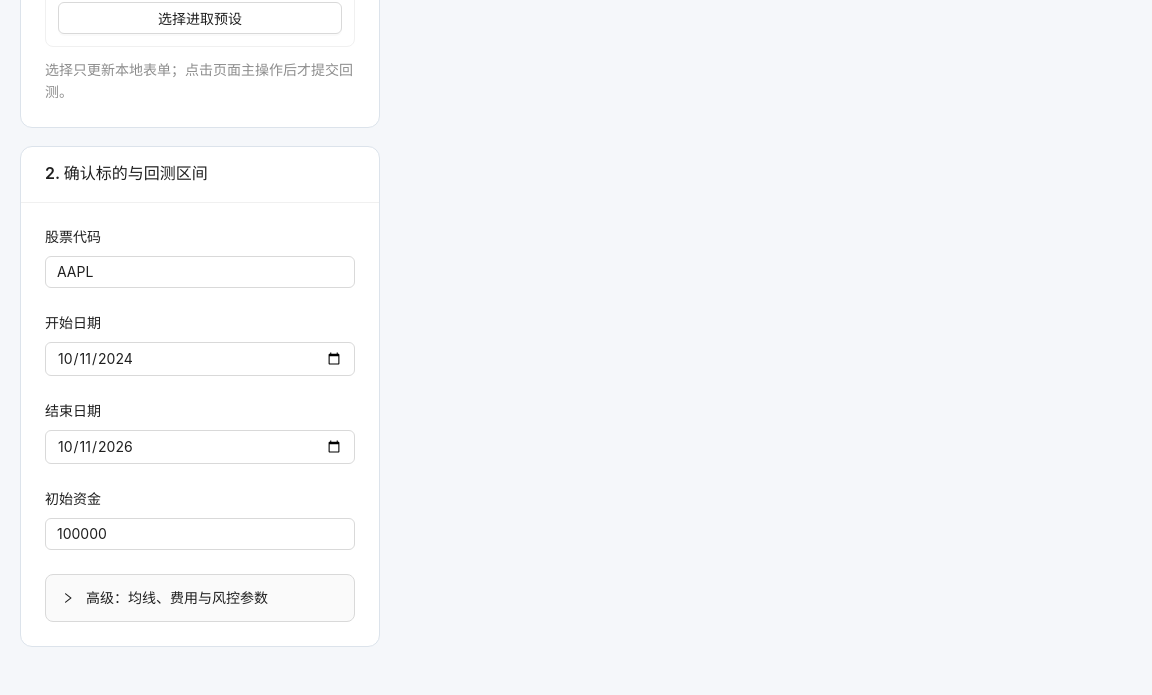
Test: StrategyLab › offers a ranked market reference and keeps actual cost and drawdown controls in advanced settings
(page scrolled)
Click the button "高级：均线、费用与风控参数" at (165, 597), box [62, 589, 268, 606]
(page scrolled)
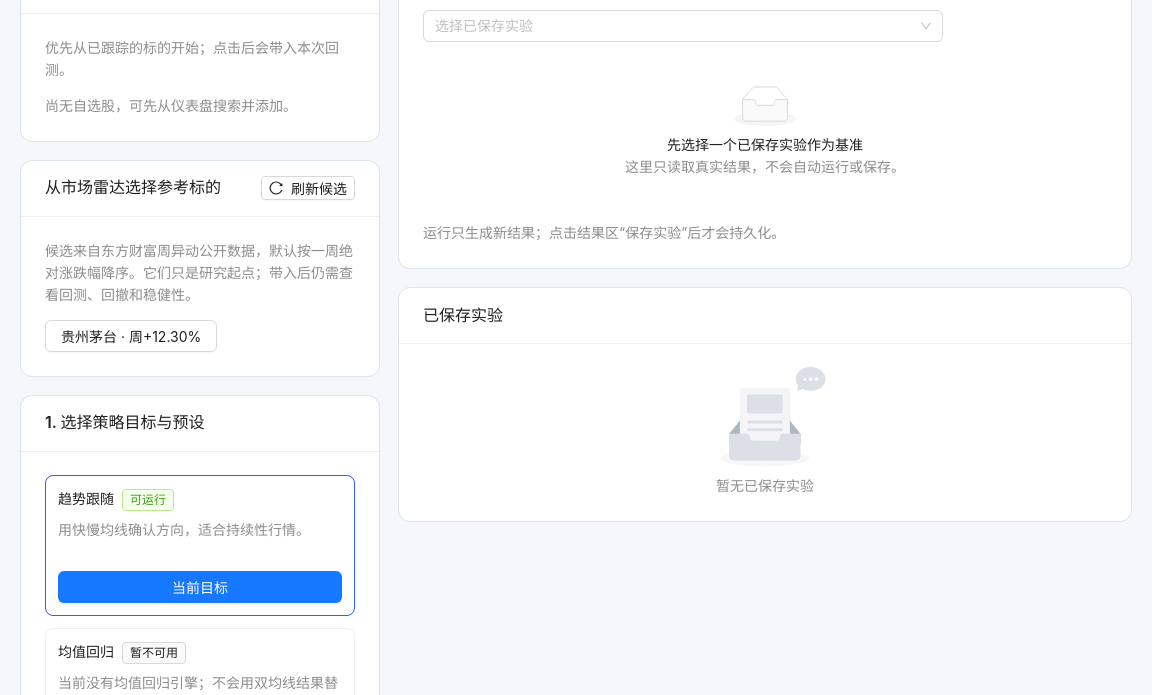
Click the button "贵州茅台 · 周+12.30%" at (131, 336), box [45, 320, 217, 352]
(page scrolled)
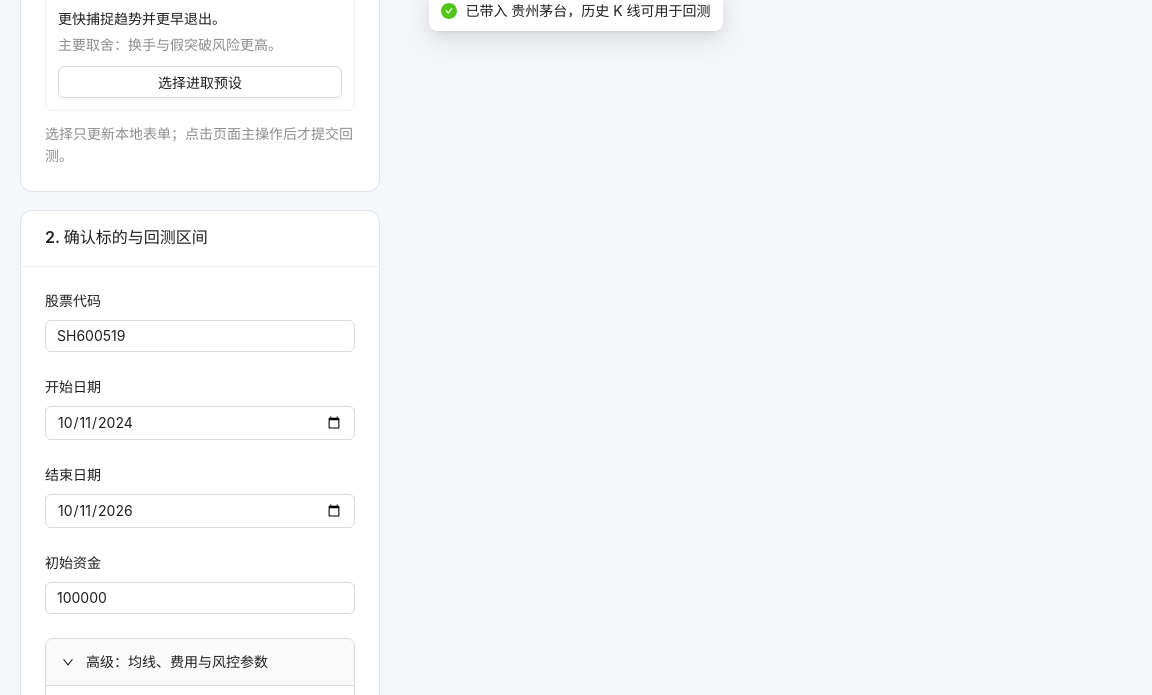
Expected: the field named "股票代码" holds "SH600519", [45, 320, 355, 352]
